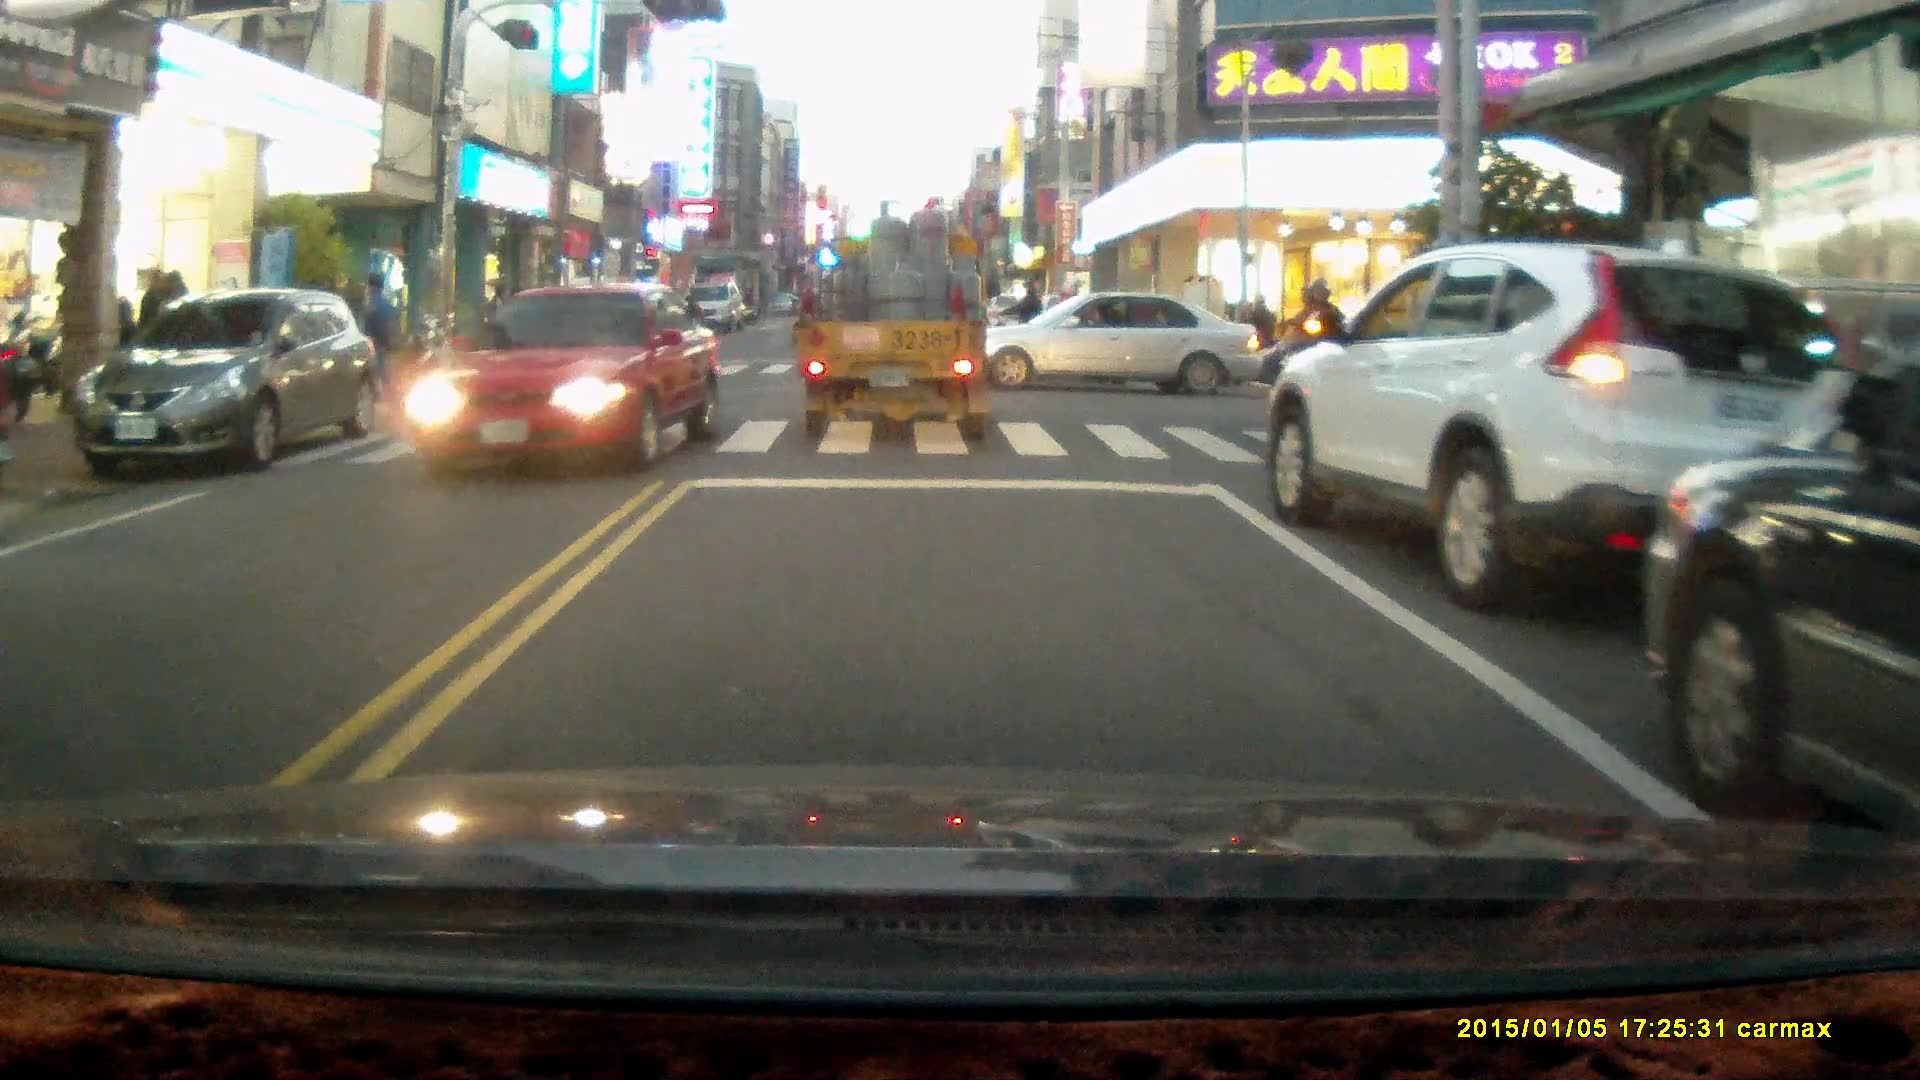pedestrian: (349, 269, 398, 408)
rider: (1209, 290, 1293, 390)
vehicle: (1264, 247, 1890, 621), (1646, 359, 1920, 864), (409, 281, 727, 475), (70, 286, 382, 479), (798, 193, 993, 454), (951, 293, 1265, 403)
